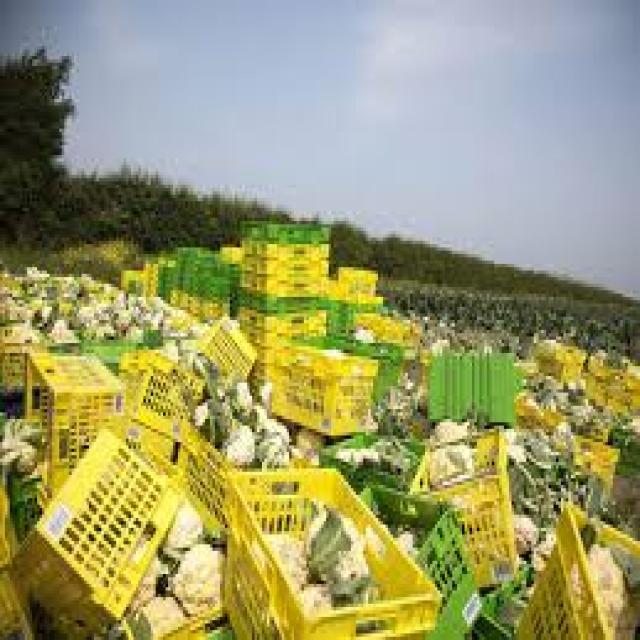Organik: (5, 262, 196, 346), (271, 487, 383, 612), (198, 367, 313, 483), (405, 405, 482, 511)
